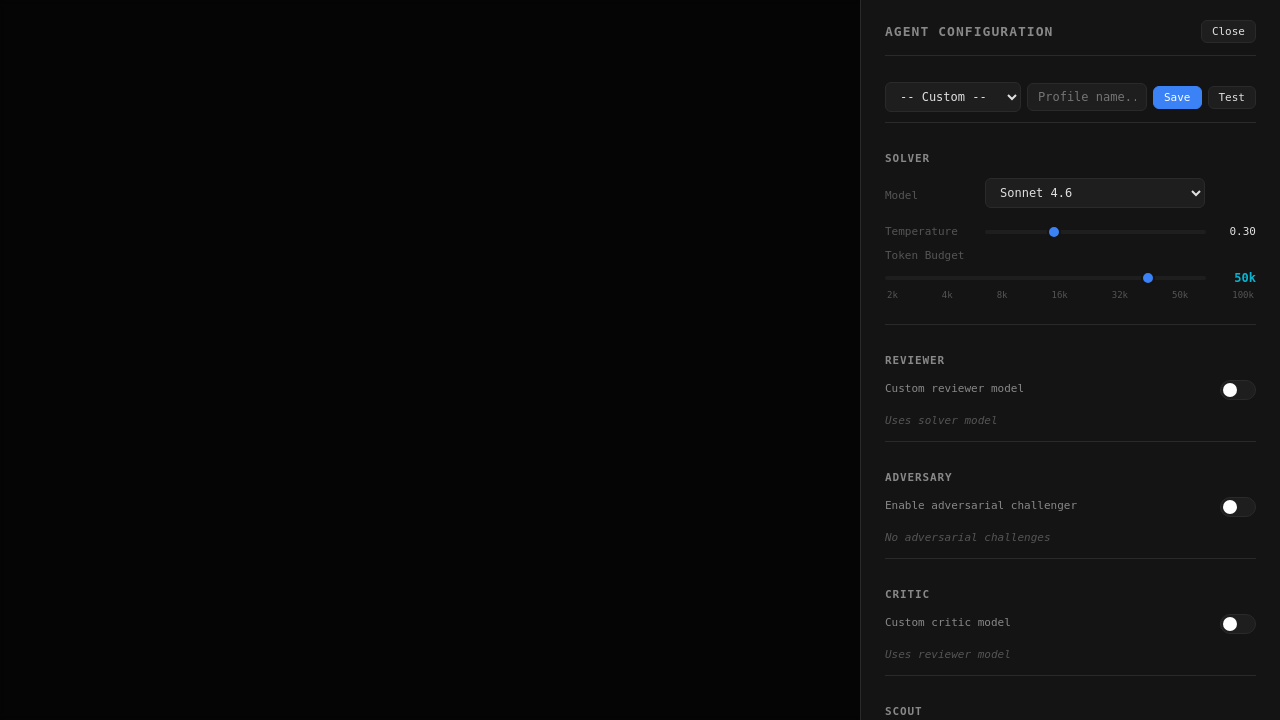
Test: AgentProfilePanel › loads profiles, saves a new profile, and forwards profile selection
Select "Default *" in the 1st dropdown showing "-- Custom --" at coordinates (953, 97), box x1=885 y1=82 x2=1021 y2=112
Type "Alpha" into the field with placeholder "Profile name..." at coordinates (1087, 97), box x1=1027 y1=83 x2=1147 y2=111
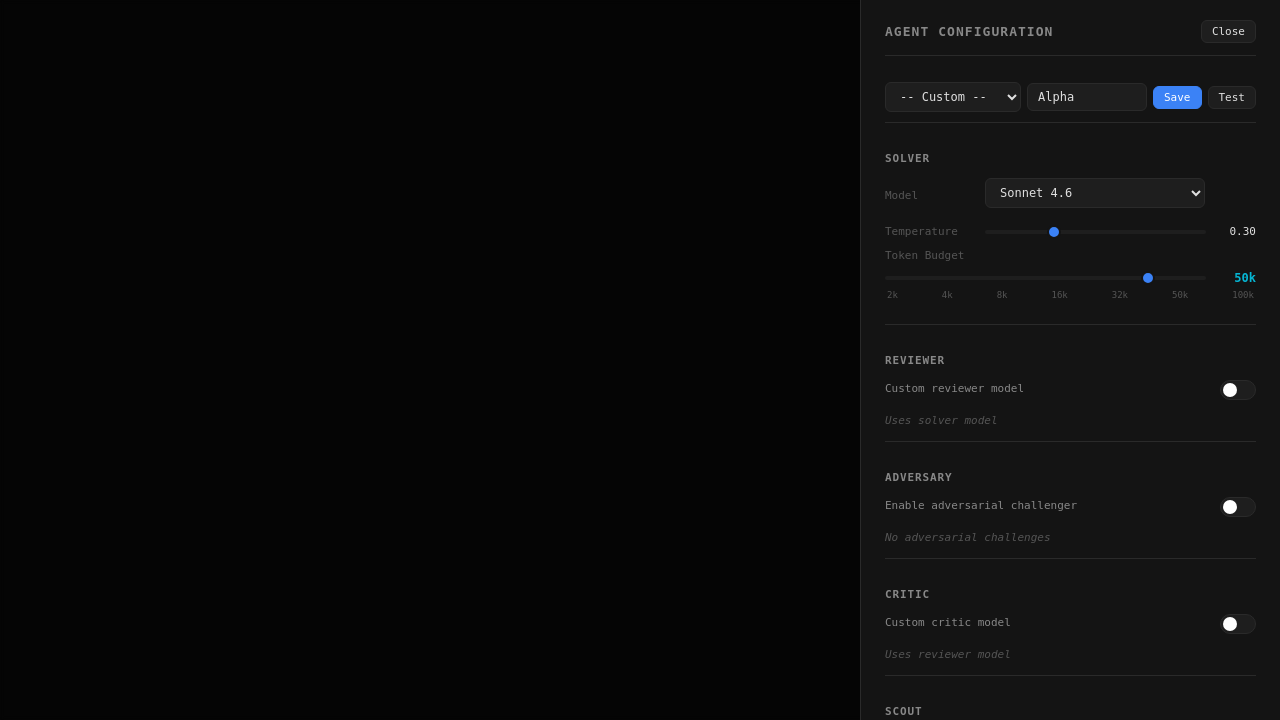
Click the button "Save" at coordinates (1177, 97), box x1=1153 y1=86 x2=1202 y2=108
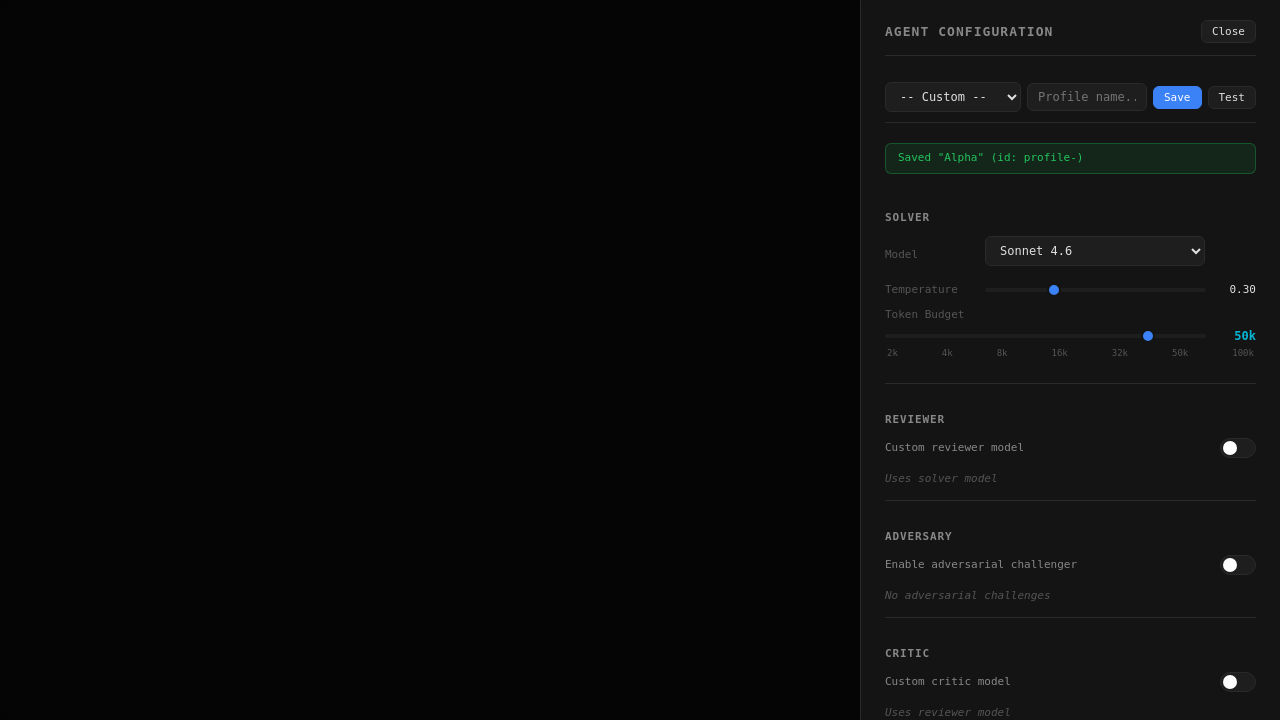
Expected: the text "Saved \"Alpha\" (id: profile-)" is shown, x1=885 y1=143 x2=1256 y2=174
